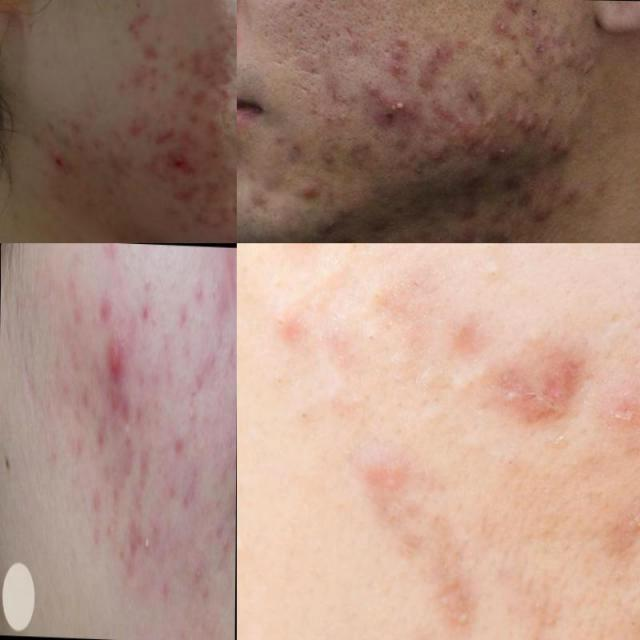Pimples: (398, 528, 489, 640), (508, 344, 582, 451), (183, 42, 237, 89), (373, 101, 409, 135), (106, 332, 124, 382), (164, 144, 193, 175), (120, 11, 150, 40), (422, 134, 445, 170), (124, 110, 150, 140), (510, 107, 534, 139), (489, 40, 506, 82), (378, 59, 405, 82), (165, 186, 198, 204), (192, 210, 222, 228), (204, 117, 226, 137), (146, 133, 172, 149), (142, 530, 155, 562), (172, 426, 182, 464), (584, 56, 600, 78), (221, 204, 237, 225), (138, 48, 160, 62), (188, 110, 202, 124), (233, 166, 237, 181)
